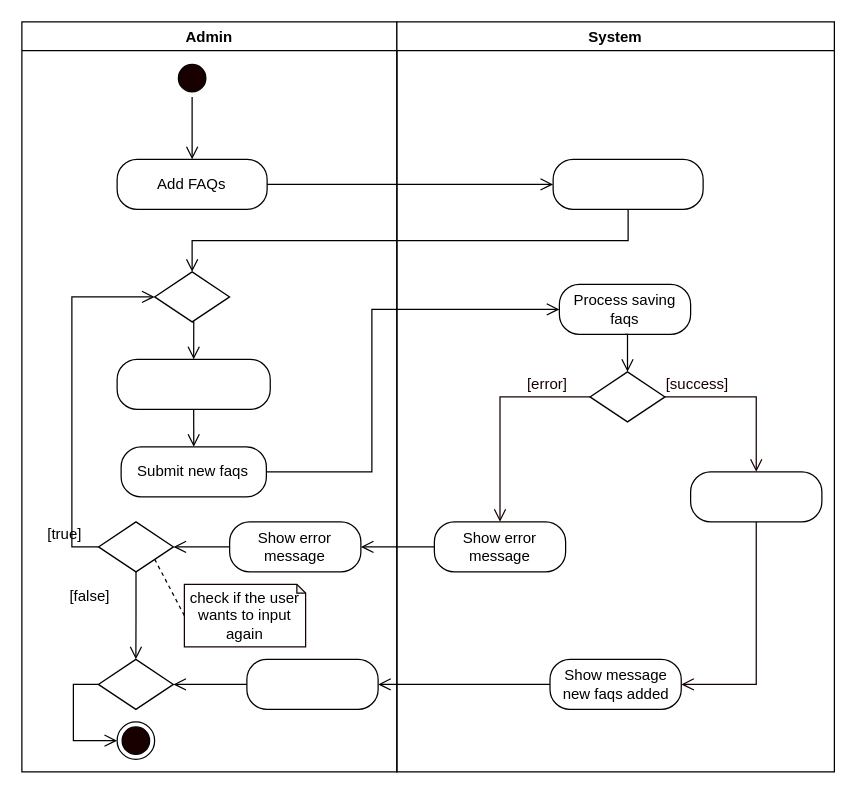
Image size: 856x794. Some labels were removed from this diagram. The box of each missing label's shape, as (x1, y1, x2, y2) in pixels:
Add new faqs to Database: (689, 471, 822, 522)
Display form: (552, 158, 703, 209)
Input all details needed: (116, 358, 270, 409)
View message: (246, 658, 378, 709)
